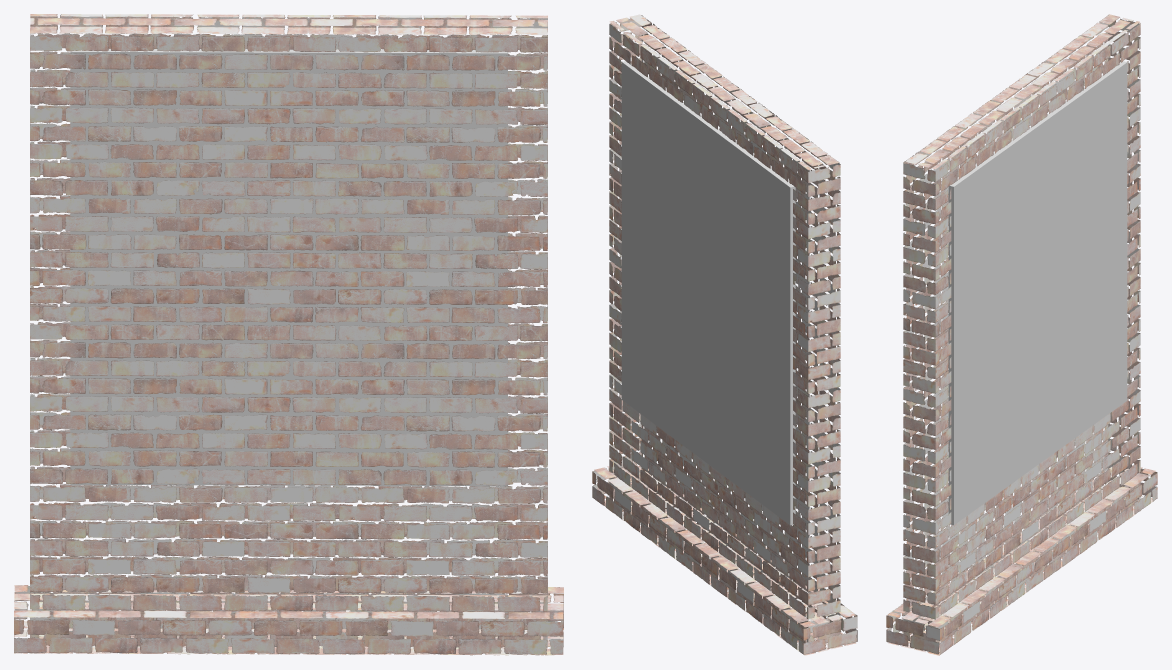
Rendered from top.obj.
The picture shows the model from 3 angles, left to right: view 1: azimuth 30°, elevation 25°; view 2: azimuth 150°, elevation 25°; view 3: azimuth 270°, elevation 25°; orthographic projection. The views are drawn at different scales.
Parts seen in each view (by area): view 1: Backing1, Whiteboard1, Base1; view 2: Whiteboard1, Backing1, Base1; view 3: Whiteboard1, Backing1, Base1.
Part boxes in pixels (bbox=[...]): Backing1: bbox=[30, 14, 547, 649]; Whiteboard1: bbox=[70, 48, 507, 486]; Base1: bbox=[14, 585, 563, 655]; Whiteboard1: bbox=[621, 61, 795, 525]; Backing1: bbox=[609, 14, 840, 644]; Base1: bbox=[592, 461, 857, 655]; Whiteboard1: bbox=[948, 61, 1127, 525]; Backing1: bbox=[903, 14, 1140, 644]; Base1: bbox=[886, 465, 1157, 655].
Size of the model in its own units: 12.91 by 17 by 8.72.
2 materials, 1 textured.
